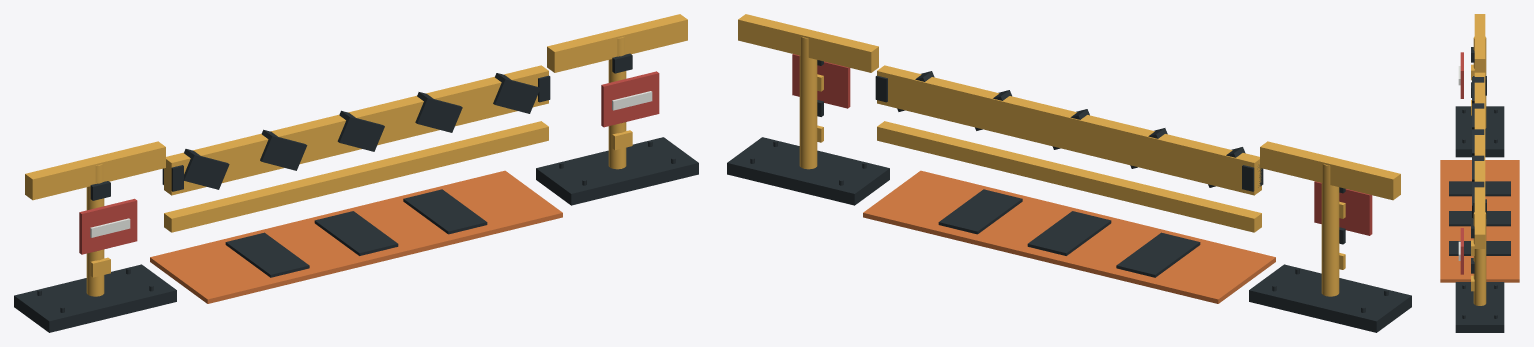
Rendered from exclusion_barrier.glb.
The picture shows the model from 3 angles, left to right: view 1: azimuth 30°, elevation 25°; view 2: azimuth 150°, elevation 25°; view 3: azimuth 270°, elevation 25°; orthographic projection. The views are drawn at different scales.
Parts seen in each view (by area): view 1: exclusion_barrier__fixed, exclusion_barrier__removable, exclusion_barrier__gap_warn; view 2: exclusion_barrier__fixed, exclusion_barrier__removable, exclusion_barrier__gap_warn; view 3: exclusion_barrier__gap_warn, exclusion_barrier__fixed, exclusion_barrier__removable.
Part boxes in pixels (left/top/right/bottom): exclusion_barrier__fixed: left=14, top=14, right=698, bottom=332; exclusion_barrier__removable: left=162, top=65, right=550, bottom=232; exclusion_barrier__gap_warn: left=150, top=170, right=562, bottom=303; exclusion_barrier__fixed: left=727, top=14, right=1411, bottom=332; exclusion_barrier__removable: left=875, top=65, right=1263, bottom=232; exclusion_barrier__gap_warn: left=863, top=170, right=1275, bottom=303; exclusion_barrier__gap_warn: left=1440, top=160, right=1519, bottom=282; exclusion_barrier__fixed: left=1455, top=14, right=1504, bottom=332; exclusion_barrier__removable: left=1472, top=72, right=1486, bottom=218.
Bounding box in the file's own units: 5.9 × 1.24 × 0.9.
